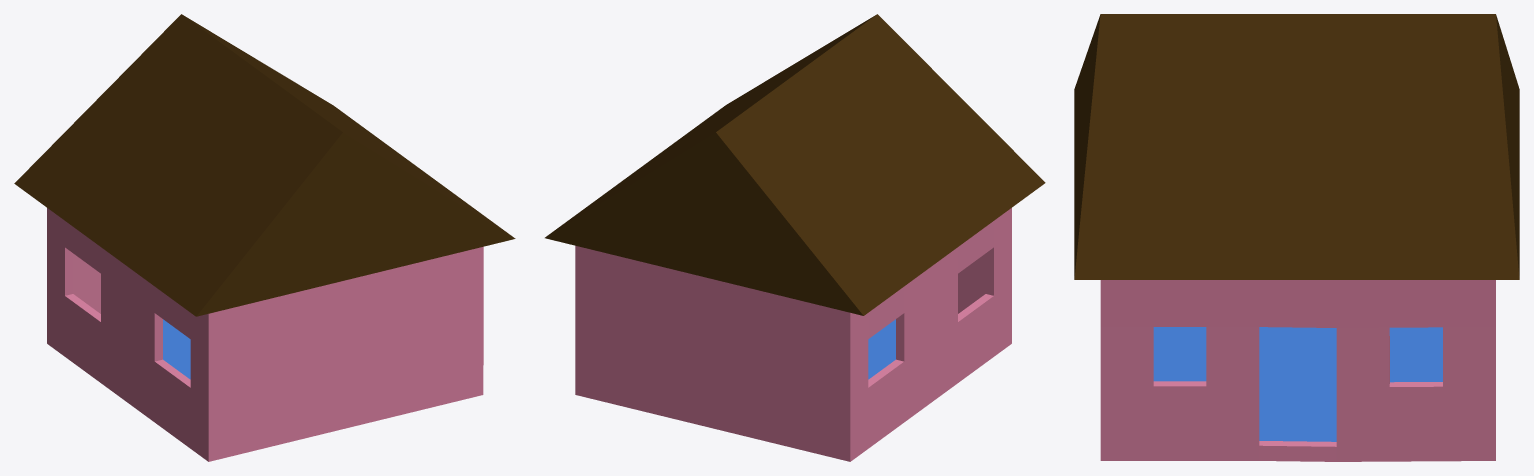
Rendered from House.fbx.
The picture shows the model from 3 angles, left to right: view 1: azimuth 30°, elevation 25°; view 2: azimuth 150°, elevation 25°; view 3: azimuth 270°, elevation 25°; orthographic projection. The views are drawn at different scales.
Visible parts, largest first — view 1: House; view 2: House; view 3: House.
Part boxes in pixels (x1=…): House: x1=14, y1=14, x2=515, y2=461; House: x1=545, y1=14, x2=1045, y2=461; House: x1=1074, y1=14, x2=1519, y2=461.
Bounding box in the file's own units: 1239 × 1104 × 1221.
